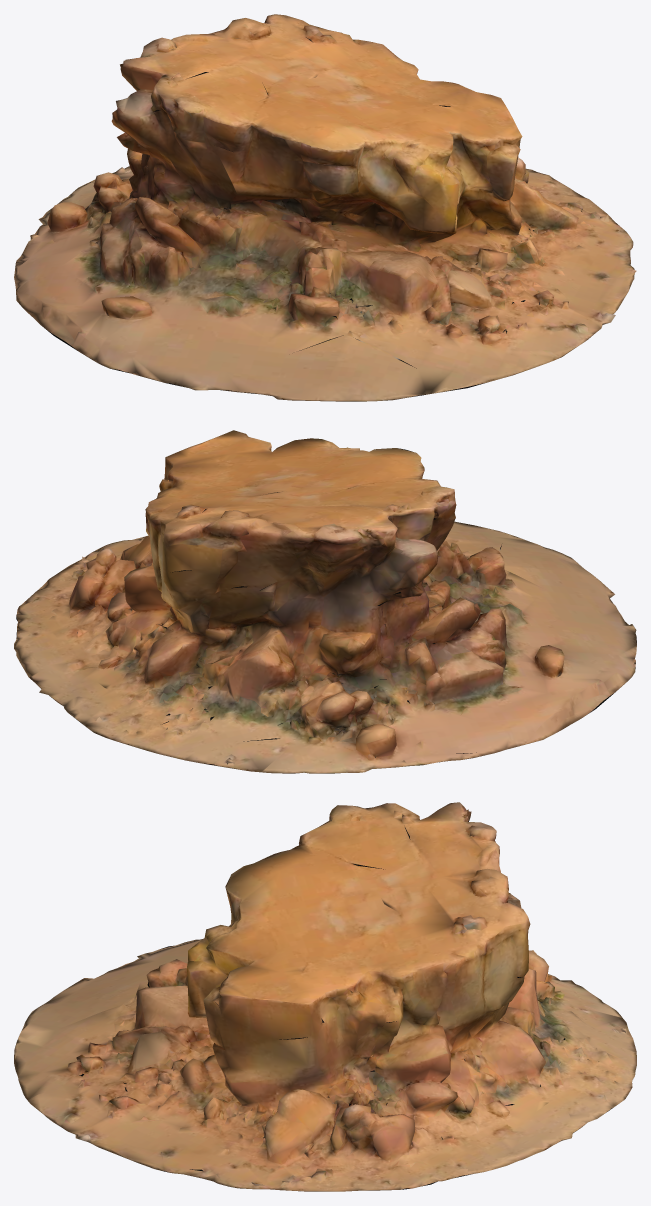
The model's file is pillar_b.glb.
3 renders of one model, top to bottom at view 1: azimuth 30°, elevation 25°; view 2: azimuth 150°, elevation 25°; view 3: azimuth 270°, elevation 25°, orthographic.
Parts seen in each view (by area): view 1: pillar_b_00; view 2: pillar_b_00; view 3: pillar_b_00.
Boxes of the visible parts, x1,y1,x2,y2 form: pillar_b_00: (14, 14, 636, 401); pillar_b_00: (14, 430, 636, 773); pillar_b_00: (14, 802, 636, 1191).
Bounding box in the file's own units: 1.9 × 0.6512 × 1.9.
Materials: 1 (1 with a texture image).
